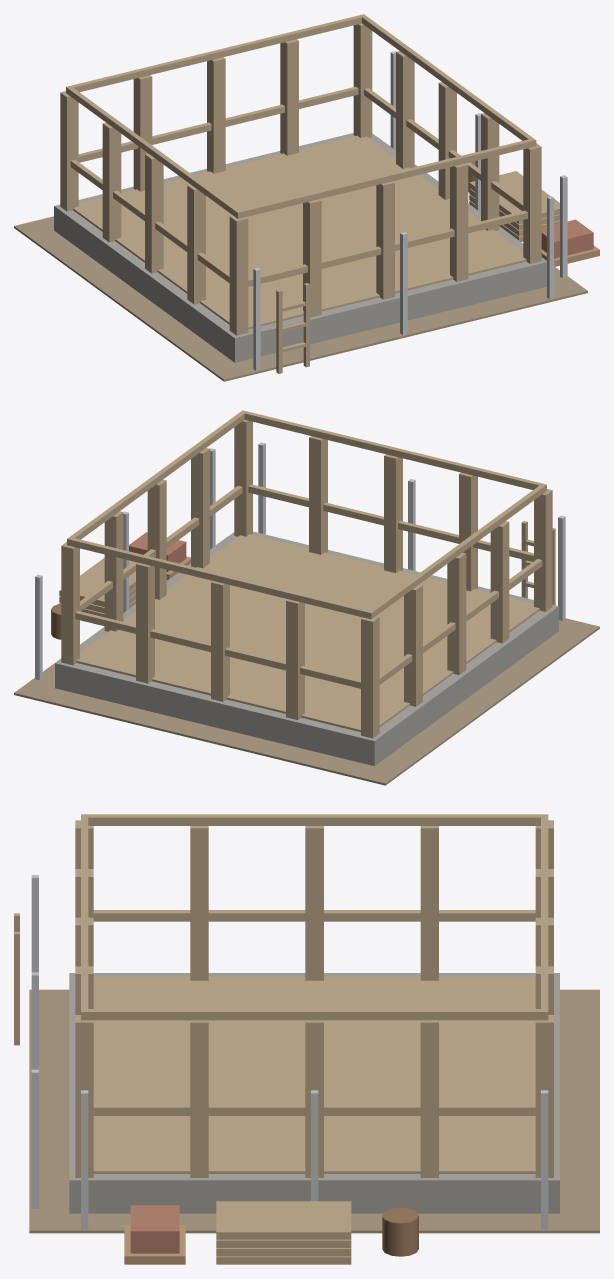
The model's file is goat_pen_site_4.glb.
The picture shows the model from 3 angles, top to bottom: view 1: azimuth 30°, elevation 25°; view 2: azimuth 150°, elevation 25°; view 3: azimuth 270°, elevation 25°; orthographic projection. The views are drawn at different scales.
Visible parts, largest first — view 1: body; view 2: body; view 3: body.
Part boxes in pixels (left/top/right/bottom): body: left=14, top=14, right=599, bottom=381; body: left=14, top=410, right=599, bottom=785; body: left=14, top=814, right=599, bottom=1264.
Size of the model in its own units: 2.1 by 0.718 by 1.91.
